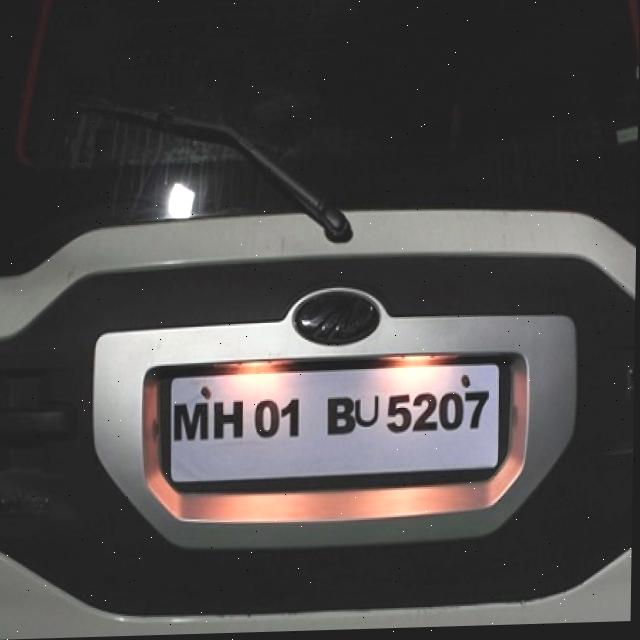plate: (172, 374, 501, 481)
